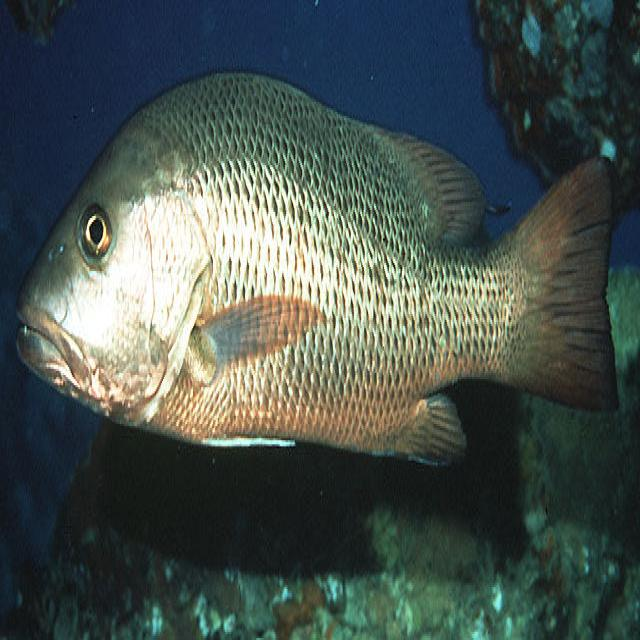ikan: (14, 67, 620, 471)
